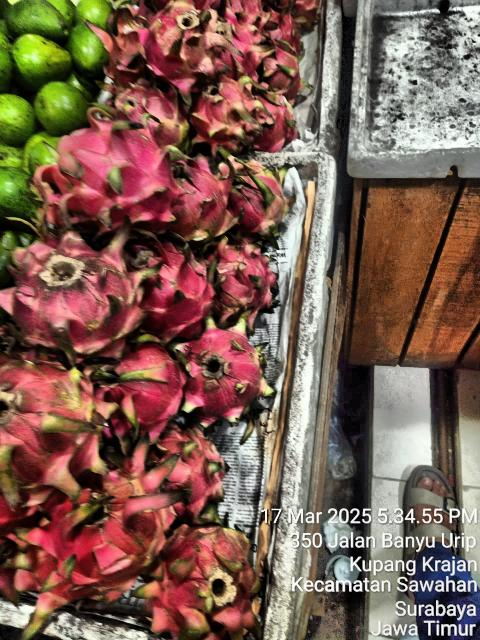buah-naga-belum-matang: (8, 241, 142, 349), (151, 516, 257, 640), (140, 2, 236, 90)
buah-naga-matang: (37, 120, 177, 242), (0, 355, 94, 505), (42, 480, 170, 586), (136, 236, 234, 350), (91, 342, 188, 454), (178, 324, 286, 420), (146, 433, 238, 523), (98, 78, 193, 150), (164, 154, 240, 240), (224, 160, 296, 248), (209, 244, 293, 318), (188, 82, 268, 148), (256, 49, 312, 107), (254, 86, 304, 150)
